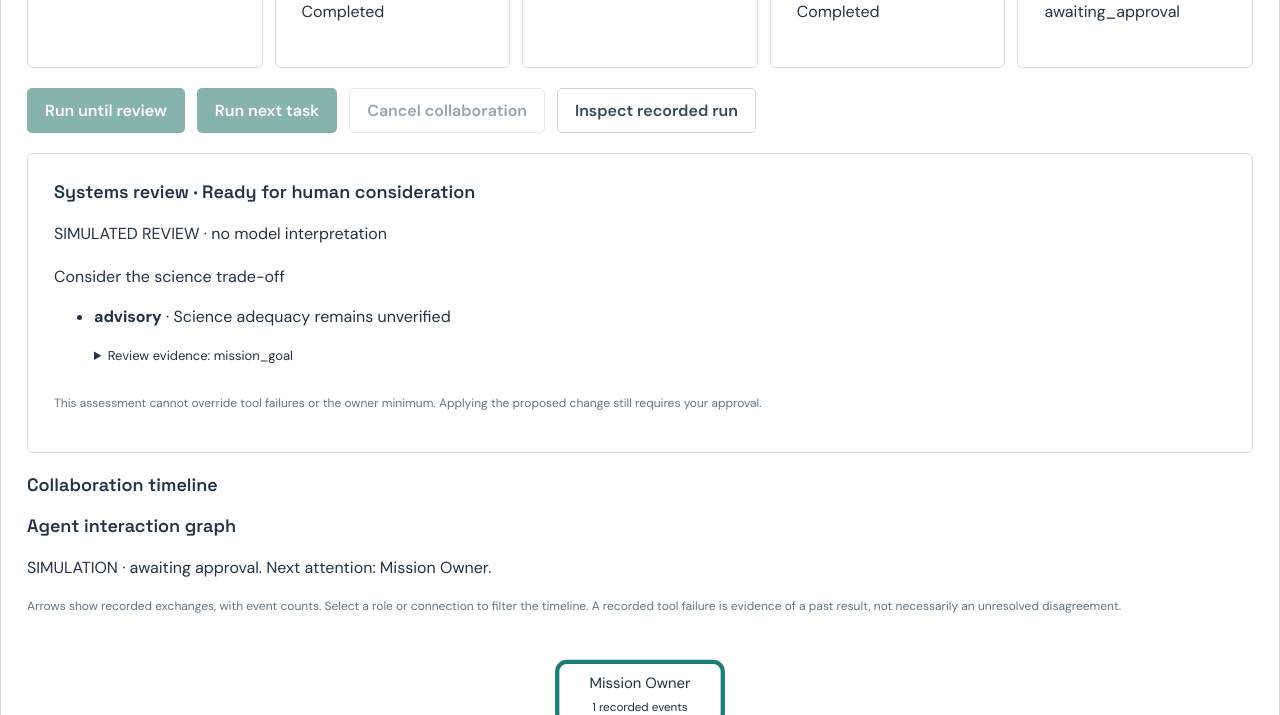
Test: review displays submit and recorded evidence without accepting changes
This screenshot has width=1280, height=715.
(page scrolled)
Expected: the text "SIMULATED REVIEW · no model interpretation" is shown, 54,223 -> 387,244
Expected: the list item "Science adequacy remains unverified" is shown, 174,306 -> 451,327
What coordinates should you click on to do the following:
click the heading "Review evidence: mission_goal"
I would click on:
 (200, 356)
Its box is 108,347 -> 293,364.
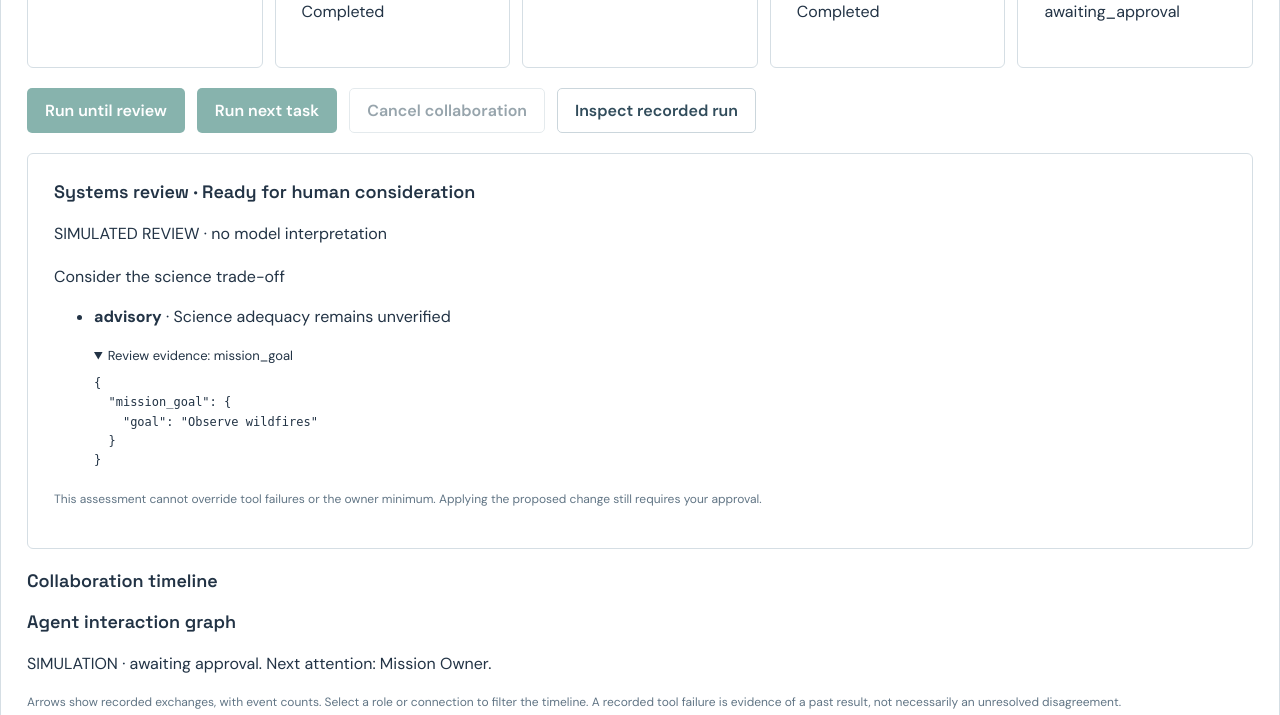
Result: the text "{ \"mission_goal\": { \"goal\": \"Observe wildfires\" } }" is shown at 94,376 -> 318,467
